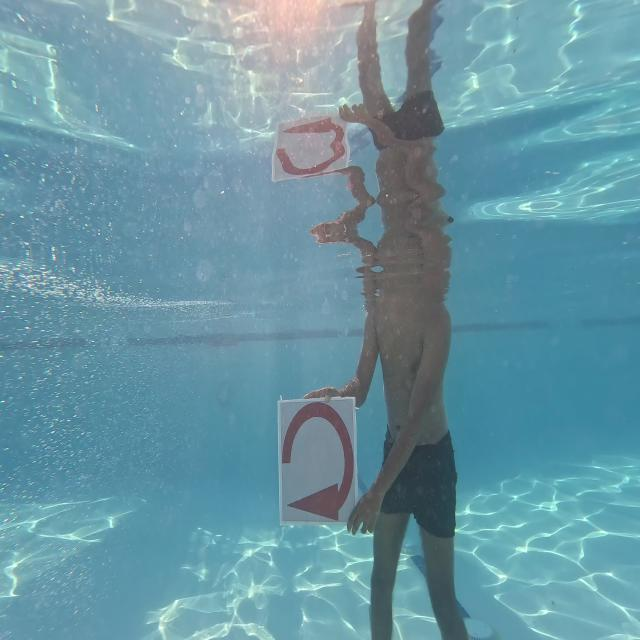red_side: (269, 387, 361, 536)
